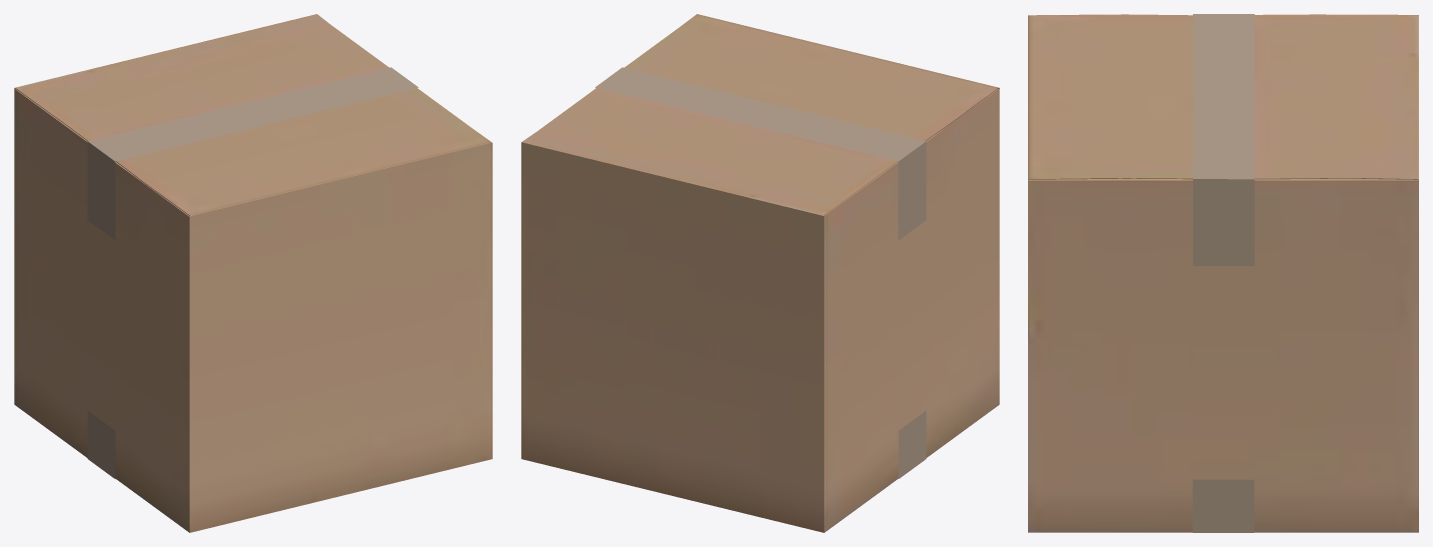
File: sh-scopia-cardboard-box.glb
3 renders of one model, left to right at view 1: azimuth 30°, elevation 25°; view 2: azimuth 150°, elevation 25°; view 3: azimuth 270°, elevation 25°, orthographic. The views are drawn at different scales.
Visible parts, largest first — view 1: Cube_Cube.001, Plane.001; view 2: Cube_Cube.001, Plane.001; view 3: Cube_Cube.001, Plane.001.
Boxes of the visible parts, x1,y1,x2,y2 form: Cube_Cube.001: [14, 14, 492, 532]; Plane.001: [87, 67, 418, 478]; Cube_Cube.001: [521, 14, 999, 532]; Plane.001: [595, 67, 926, 478]; Cube_Cube.001: [1028, 14, 1418, 532]; Plane.001: [1192, 14, 1254, 532].
Bounding box in the file's own units: 1 × 1 × 1.
Materials: 2 (1 with a texture image).
